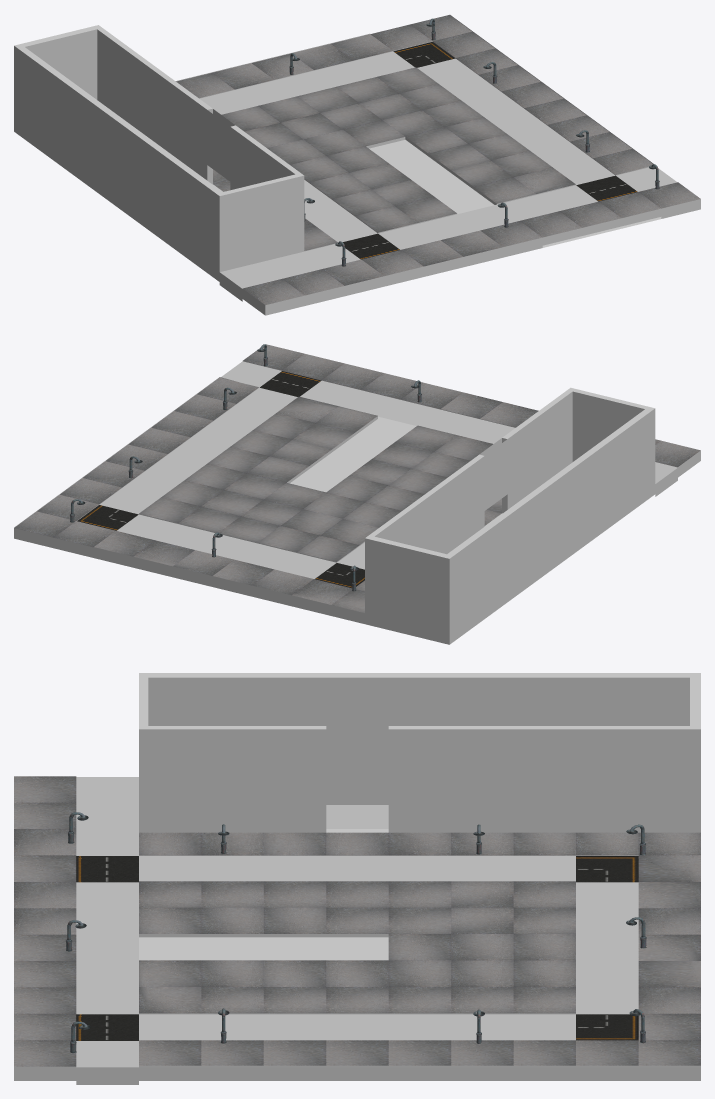
The model's file is area1base_ver22.fbx.
The picture shows the model from 3 angles, top to bottom: view 1: azimuth 30°, elevation 25°; view 2: azimuth 150°, elevation 25°; view 3: azimuth 270°, elevation 25°; orthographic projection. The views are drawn at different scales.
Parts seen in each view (by area): view 1: Base; view 2: Base; view 3: Base.
Part boxes in pixels (x1,y1,x2,y2): Base: [14, 14, 700, 315]; Base: [14, 344, 700, 644]; Base: [14, 673, 700, 1084].
Bounding box in the file's own units: 20000 × 3902 × 20001.
